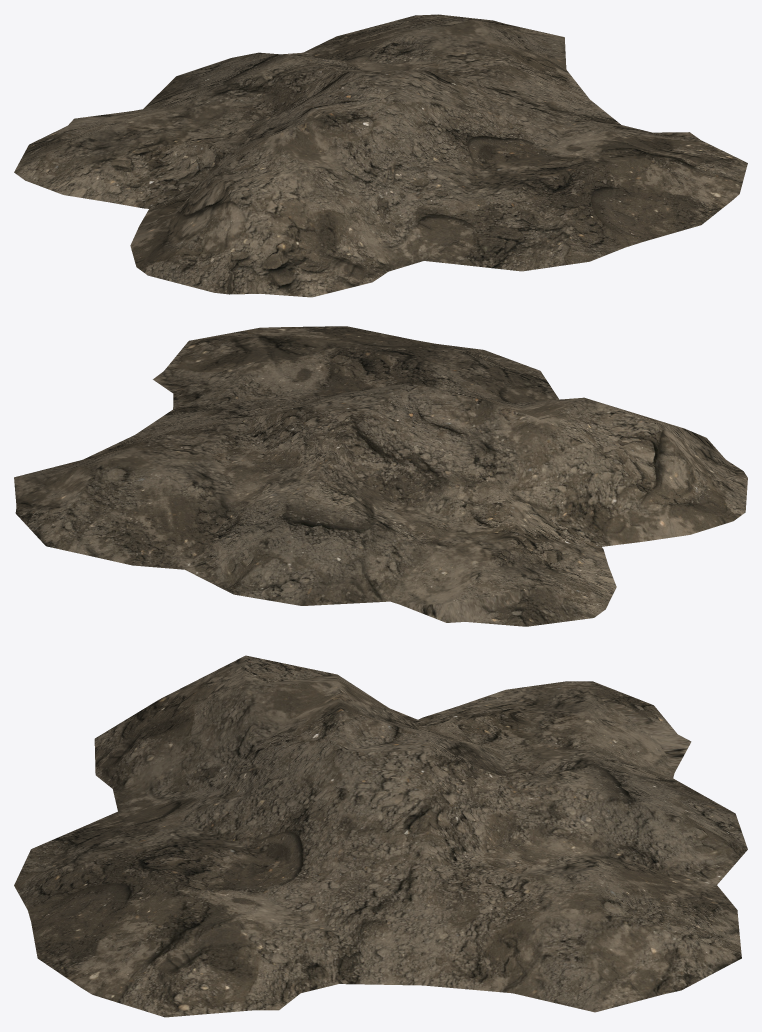
The model's file is dirt_pile.fbx.
3 renders of one model, top to bottom at view 1: azimuth 30°, elevation 25°; view 2: azimuth 150°, elevation 25°; view 3: azimuth 270°, elevation 25°, orthographic. The views are drawn at different scales.
Parts seen in each view (by area): view 1: polySurface1; view 2: polySurface1; view 3: polySurface1.
Boxes of the visible parts, x1,y1,x2,y2 form: polySurface1: (14, 14, 747, 297); polySurface1: (14, 326, 747, 626); polySurface1: (14, 655, 747, 1017).
Size of the model in its own units: 0.156 by 0.0215 by 0.1426.
